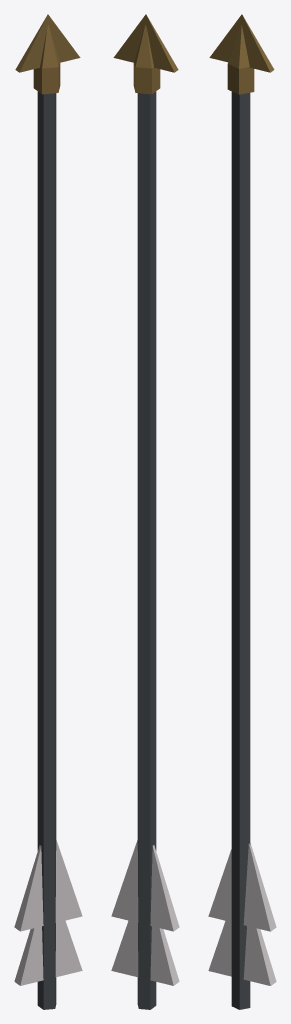
The model's file is _arrow_b_17.glb.
The picture shows the model from 3 angles, left to right: view 1: azimuth 30°, elevation 25°; view 2: azimuth 150°, elevation 25°; view 3: azimuth 330°, elevation 25°; orthographic projection.
Visible parts, largest first — view 1: arrow_b_17; view 2: arrow_b_17; view 3: arrow_b_17.
Boxes of the visible parts, left/top/right/bottom form: arrow_b_17: left=14, top=14, right=82, bottom=1009; arrow_b_17: left=111, top=14, right=179, bottom=1009; arrow_b_17: left=208, top=14, right=276, bottom=1009.
Size of the model in its own units: 1243 by 18891 by 468.
1 material, 1 textured.
